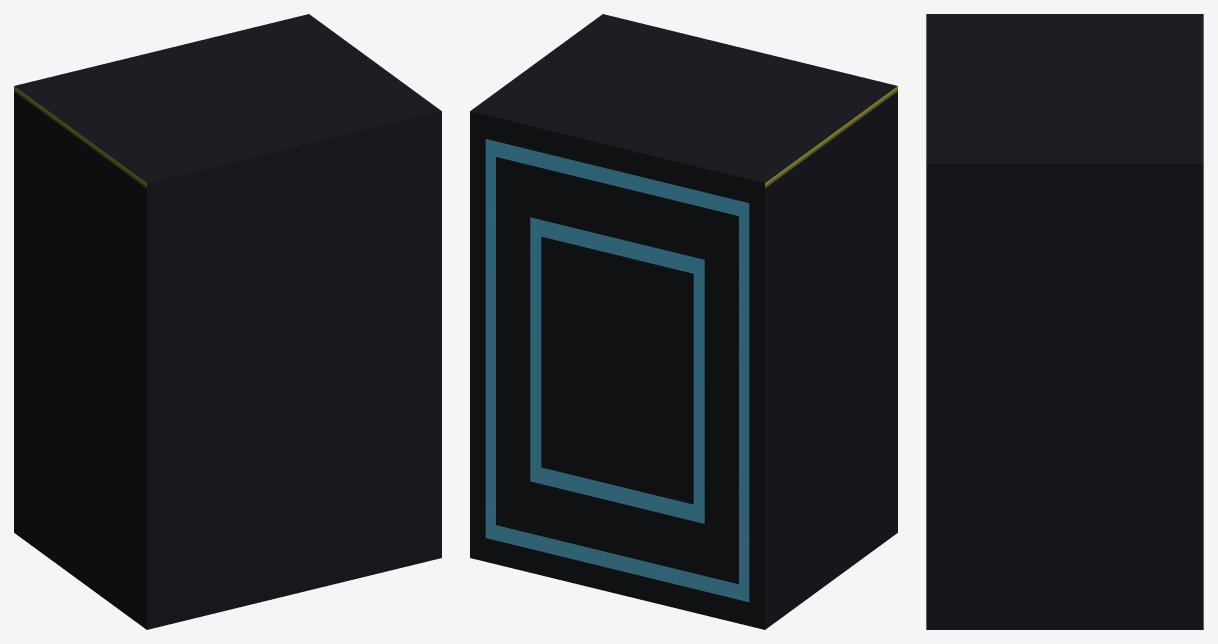
Rendered from test_wallwires_3.fbx.
3 renders of one model, left to right at view 1: azimuth 30°, elevation 25°; view 2: azimuth 150°, elevation 25°; view 3: azimuth 270°, elevation 25°, orthographic. The views are drawn at different scales.
Parts seen in each view (by area): view 1: wallwires3; view 2: wallwires3; view 3: wallwires3.
Part boxes in pixels (x1,y1,x2,y2): wallwires3: (14, 14, 441, 629); wallwires3: (470, 14, 897, 629); wallwires3: (926, 14, 1203, 629).
Bounding box in the file's own units: 45.67 × 66.08 × 35.64.
